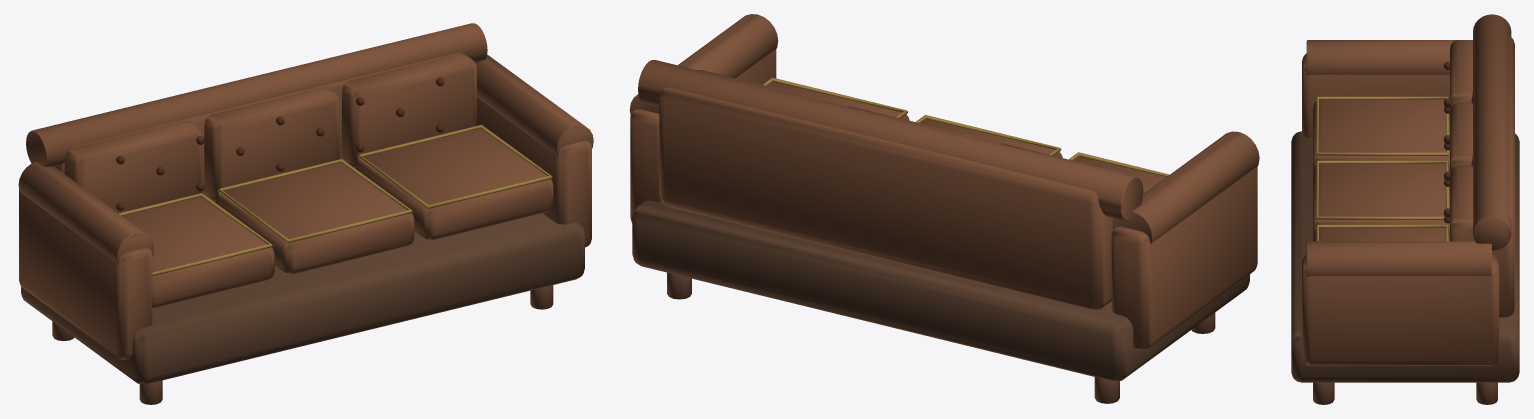
File: asset_067_clubhouse_lounge_sofa.glb
3 views of the same model, side by side, from view 1: azimuth 30°, elevation 25°; view 2: azimuth 150°, elevation 25°; view 3: azimuth 270°, elevation 25° (orthographic). The views are drawn at different scales.
Parts seen in each view (by area): view 1: MESH_SofaSeatCushionSet, MESH_SofaBase, MESH_SofaBackCushionSet, MESH_SofaArmBlockSet, MESH_SofaBackRoll, MESH_SofaArmRollSet, MESH_SeatPipingSet, MESH_SofaBackPanel, MESH_SofaFootSet, MESH_SofaTuftButtonSet; view 2: MESH_SofaBackPanel, MESH_SofaBase, MESH_SofaArmBlockSet, MESH_SofaBackRoll, MESH_SofaArmRollSet, MESH_SofaSeatCushionSet, MESH_SeatPipingSet, MESH_SofaFootSet, MESH_SofaBackCushionSet; view 3: MESH_SofaArmBlockSet, MESH_SofaSeatCushionSet, MESH_SofaArmRollSet, MESH_SofaBase, MESH_SofaBackRoll, MESH_SofaBackCushionSet, MESH_SeatPipingSet, MESH_SofaBackPanel, MESH_SofaFootSet, MESH_SofaTuftButtonSet.
Part boxes in pixels (<box>): MESH_SofaSeatCushionSet: <box>122,128,553,308</box>; MESH_SofaBase: <box>21,213,584,384</box>; MESH_SofaBackCushionSet: <box>64,53,476,213</box>; MESH_SofaArmBlockSet: <box>19,98,591,359</box>; MESH_SofaBackRoll: <box>26,23,487,167</box>; MESH_SofaArmRollSet: <box>18,55,593,264</box>; MESH_SeatPipingSet: <box>118,124,552,276</box>; MESH_SofaBackPanel: <box>55,52,461,202</box>; MESH_SofaFootSet: <box>52,285,553,404</box>; MESH_SofaTuftButtonSet: <box>116,77,444,210</box>; MESH_SofaBackPanel: <box>659,87,1113,310</box>; MESH_SofaBase: <box>632,200,1249,381</box>; MESH_SofaArmBlockSet: <box>630,49,1257,350</box>; MESH_SofaBackRoll: <box>638,60,1143,220</box>; MESH_SofaArmRollSet: <box>629,14,1259,244</box>; MESH_SofaSeatCushionSet: <box>767,82,1165,193</box>; MESH_SeatPipingSet: <box>762,77,1169,177</box>; MESH_SofaFootSet: <box>667,272,1215,403</box>; MESH_SofaBackCushionSet: <box>697,70,1127,174</box>; MESH_SofaArmBlockSet: <box>1302,53,1499,365</box>; MESH_SofaSeatCushionSet: <box>1313,99,1449,241</box>; MESH_SofaArmRollSet: <box>1306,40,1491,276</box>; MESH_SofaBase: <box>1291,131,1519,382</box>; MESH_SofaBackRoll: <box>1473,14,1511,250</box>; MESH_SofaBackCushionSet: <box>1450,40,1474,241</box>; MESH_SeatPipingSet: <box>1316,96,1448,241</box>; MESH_SofaBackPanel: <box>1471,36,1514,318</box>; MESH_SofaFootSet: <box>1313,382,1497,404</box>; MESH_SofaTuftButtonSet: <box>1444,62,1451,223</box>.
Bounding box in the file's own units: 2.15 × 0.9 × 0.95.
